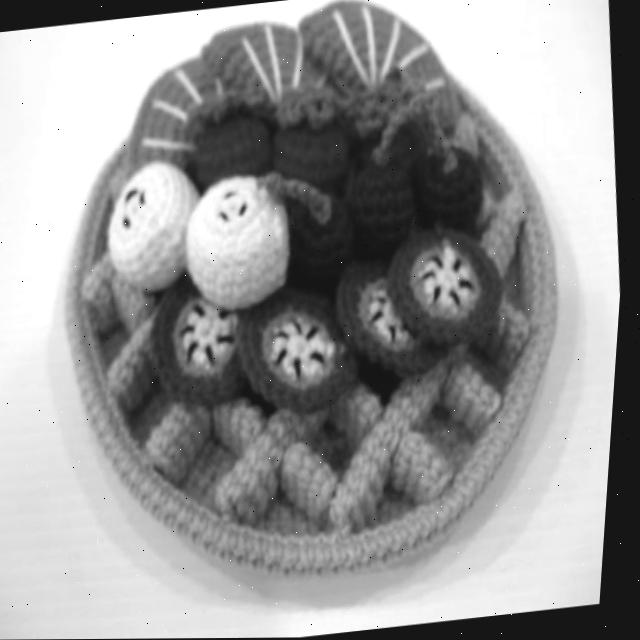炸货点心: (0, 0, 640, 632)
蛋糕甜品: (0, 0, 640, 632)
